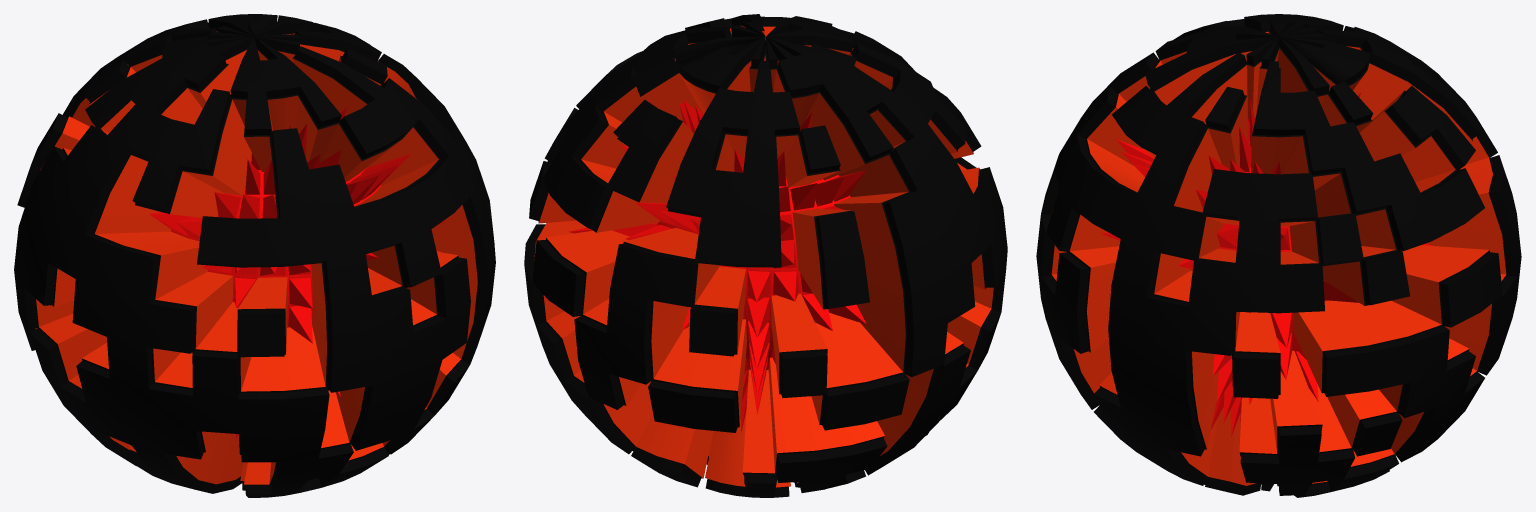
The model's file is Magma Orb.FBX.
The picture shows the model from 3 angles, left to right: view 1: azimuth 30°, elevation 25°; view 2: azimuth 150°, elevation 25°; view 3: azimuth 270°, elevation 25°; orthographic projection.
Visible parts, largest first — view 1: Sphere001; view 2: Sphere001; view 3: Sphere001.
Part boxes in pixels (left/top/right/bottom): Sphere001: left=14, top=14, right=495, bottom=497; Sphere001: left=524, top=14, right=1007, bottom=497; Sphere001: left=1036, top=14, right=1521, bottom=497.
Bounding box in the file's own units: 32.66 × 32.66 × 32.67.
